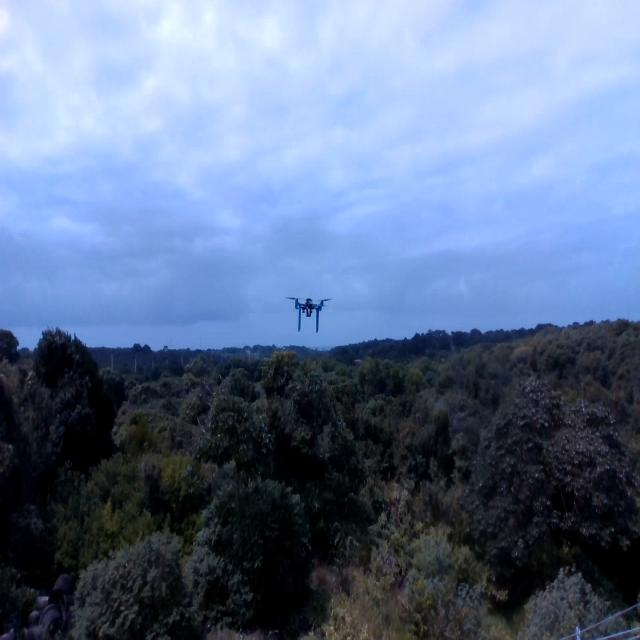-uav-: (282, 284, 333, 340)
